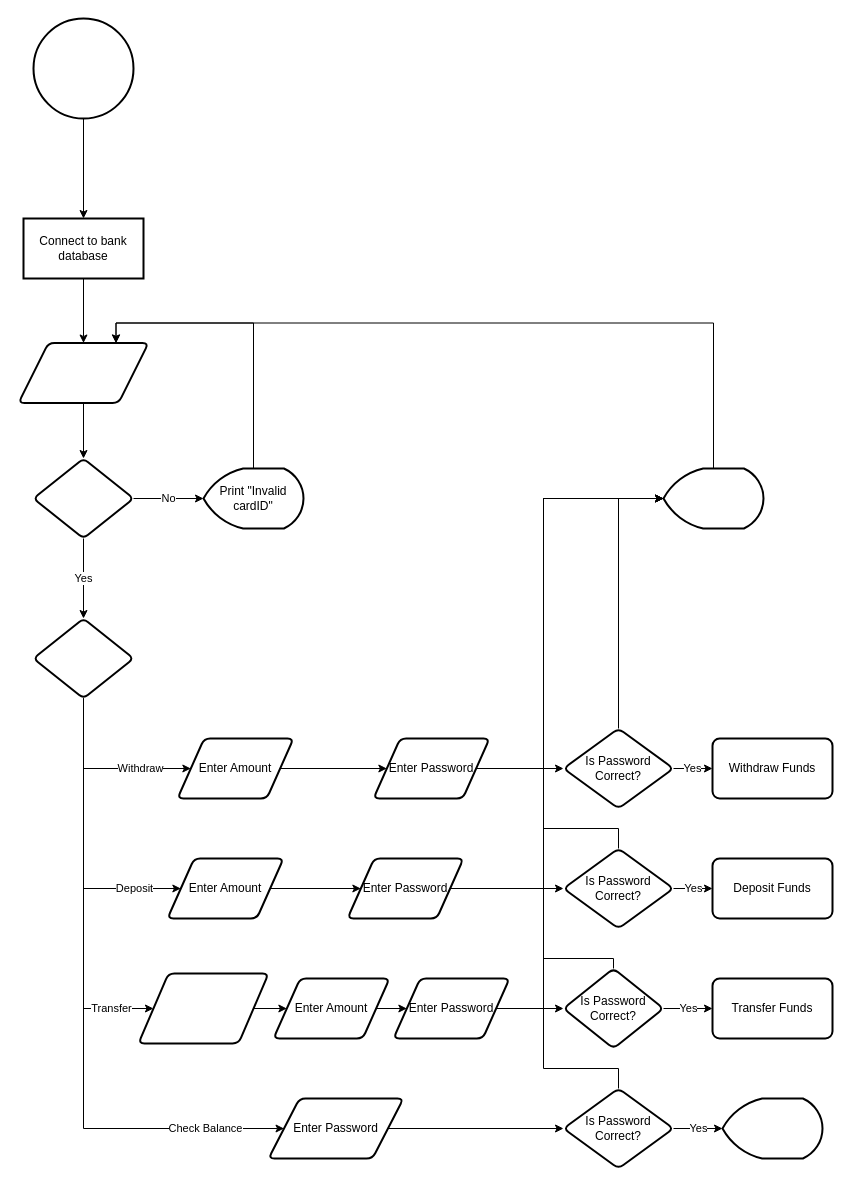
Image size: 850x1186. Some labels were removed from this diagram. The centre of each missing label's shape, as x and y in pixels:
Enter Destination CardID: (203,1008)
Is Card valid?: (83,498)
Print "Wrong Password": (713,498)
Print Current Balance: (772,1128)
Receive card ID: (83,373)
Select Action: (83,658)
Start: (83,68)
